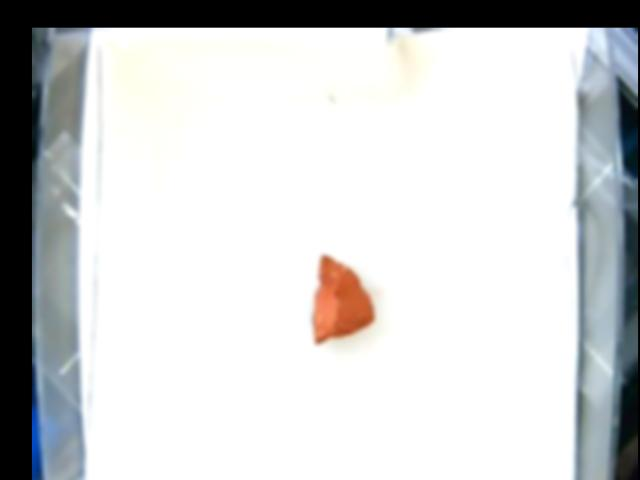Brisk: (313, 253, 377, 346)
